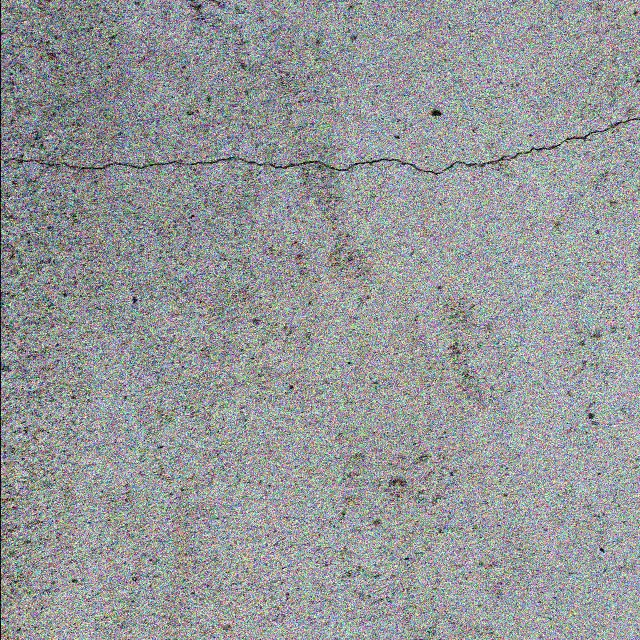SurfaceCrack: (1, 102, 640, 217)
